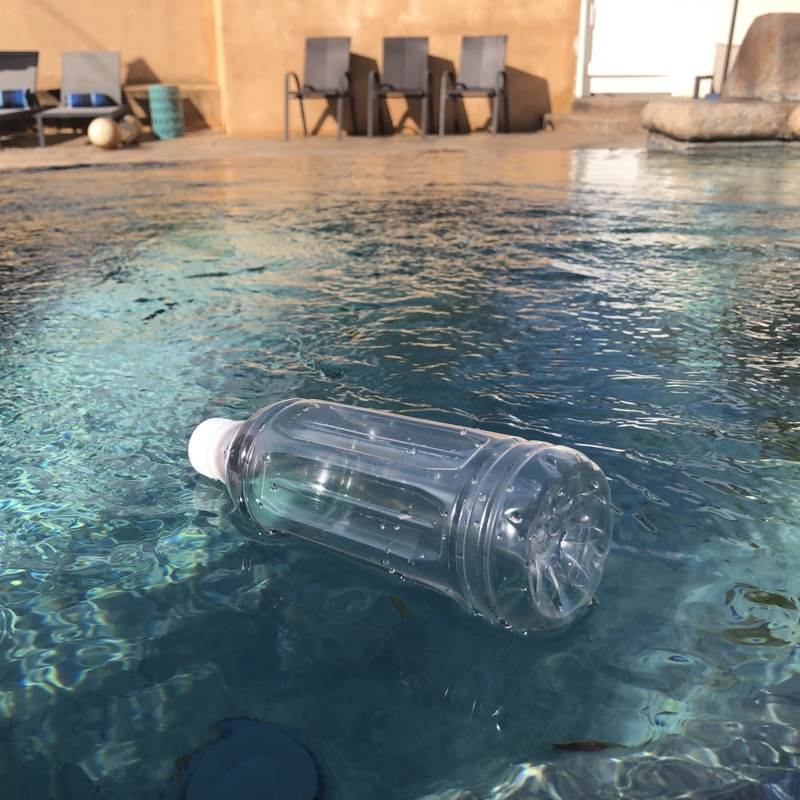Plastic Bottle: (185, 394, 621, 643)
